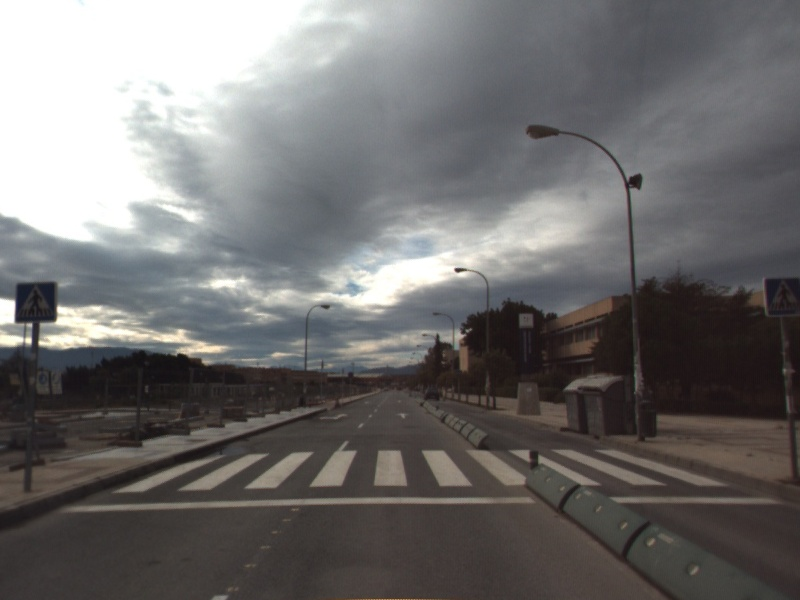STRAIGHT: (394, 411, 411, 420)
STRAIGHT_LEFT: (317, 411, 350, 423)
